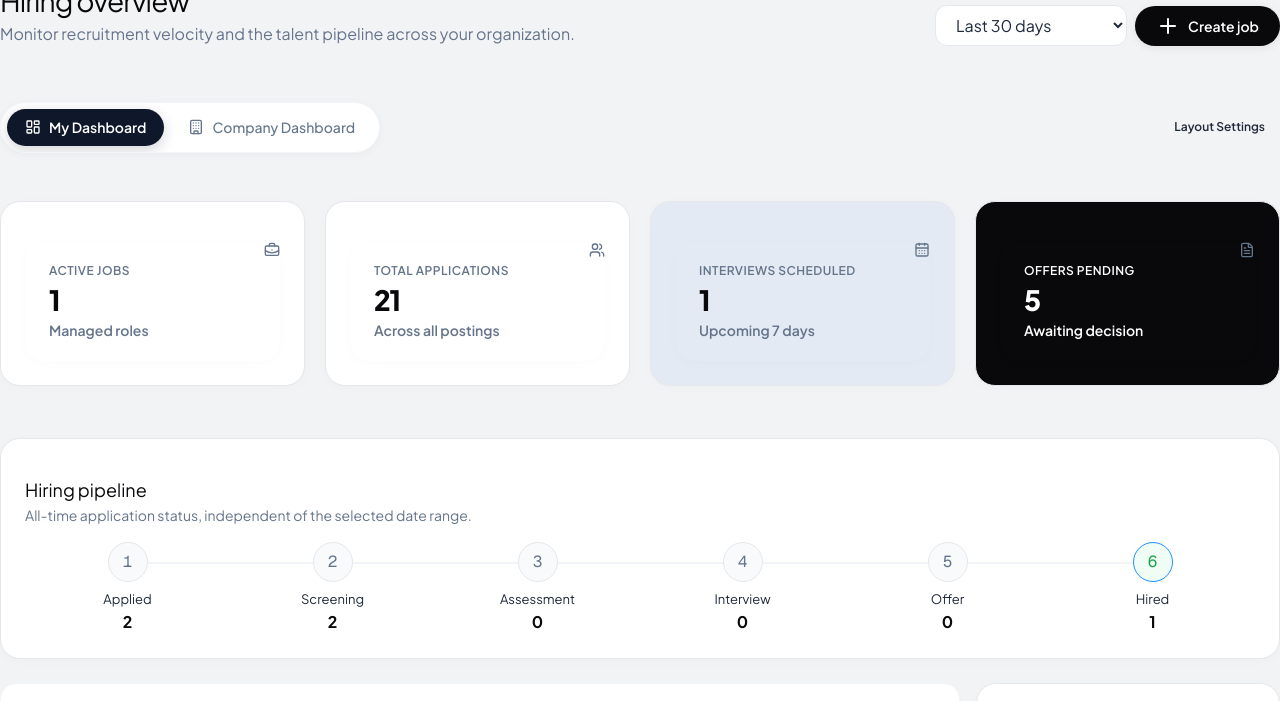
Test: rendered organization dashboard › canonicalizes and updates range, search, stage, and page in URL state
Select "Last 90 days" in the dropdown labelled "Dashboard date range" at [1031, 25], box [935, 4, 1127, 46]
(page scrolled)
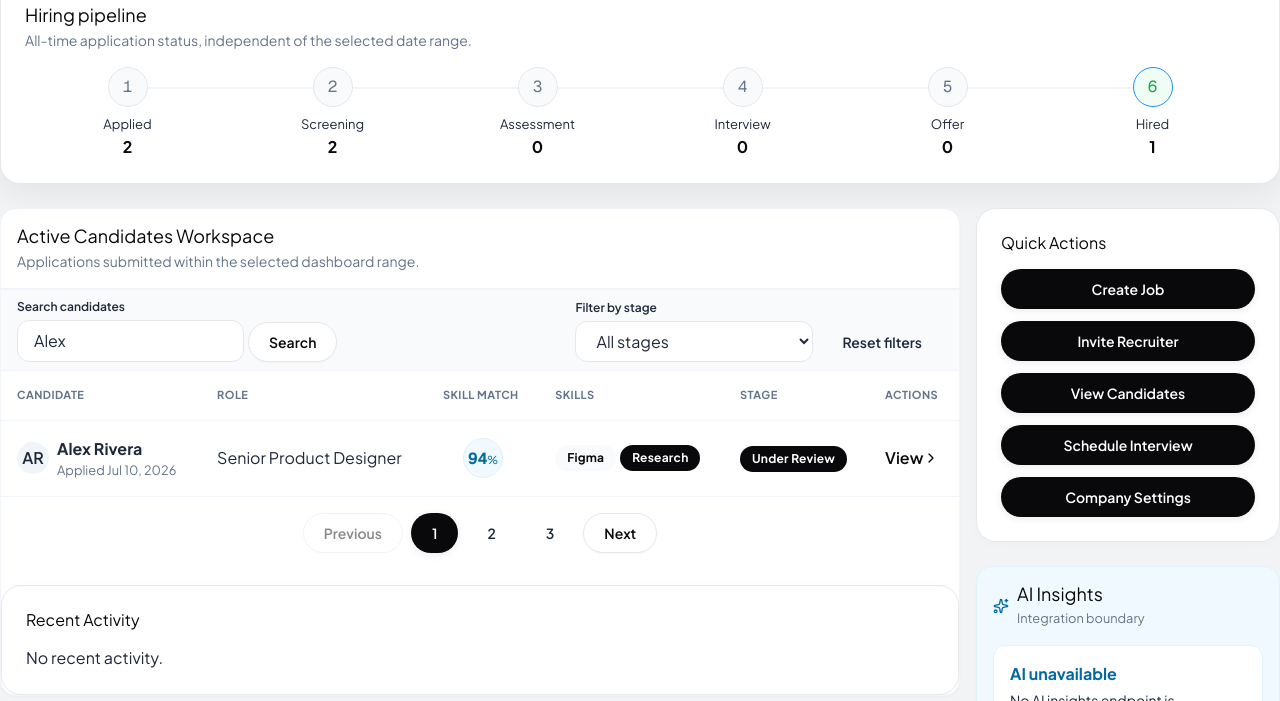
Replace the text in the search field labelled "Search candidates" with "Rivera" at [130, 341], box [17, 320, 244, 362]
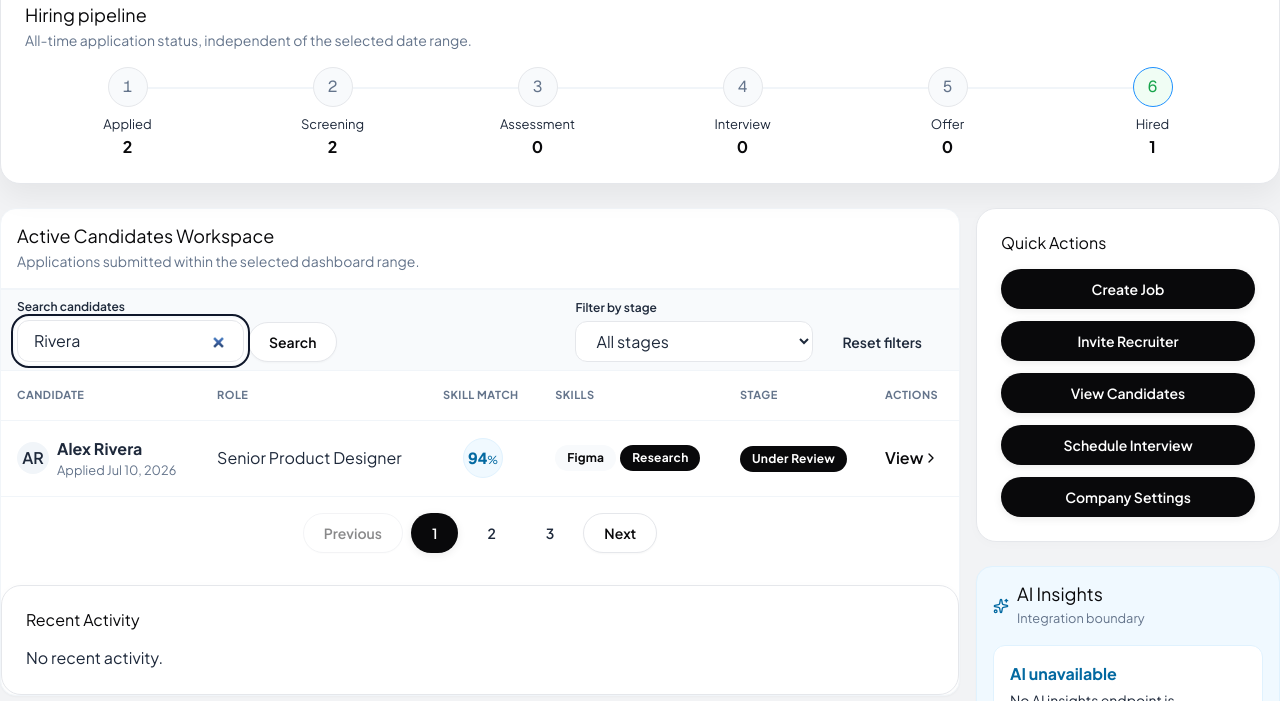
Click the button "Search" at [293, 342], box [248, 322, 337, 362]
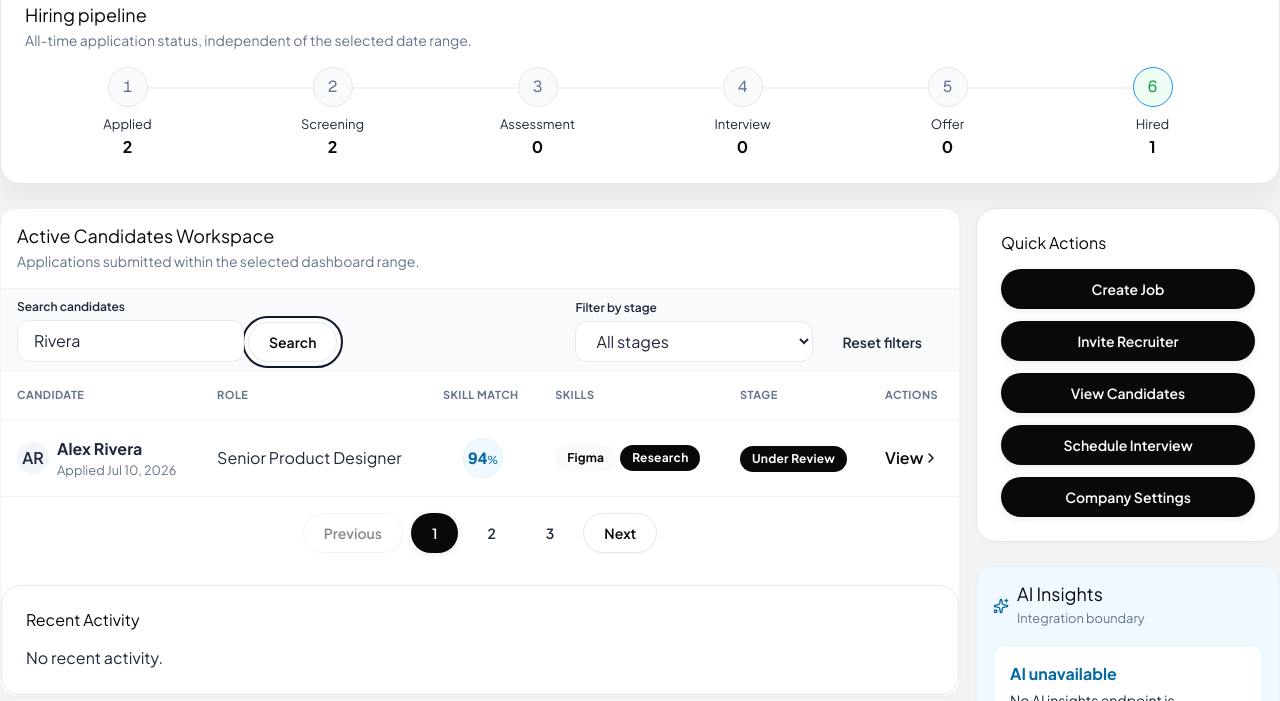
Select "Hired" in the dropdown labelled "Filter by stage" at [694, 341], box [576, 321, 814, 362]
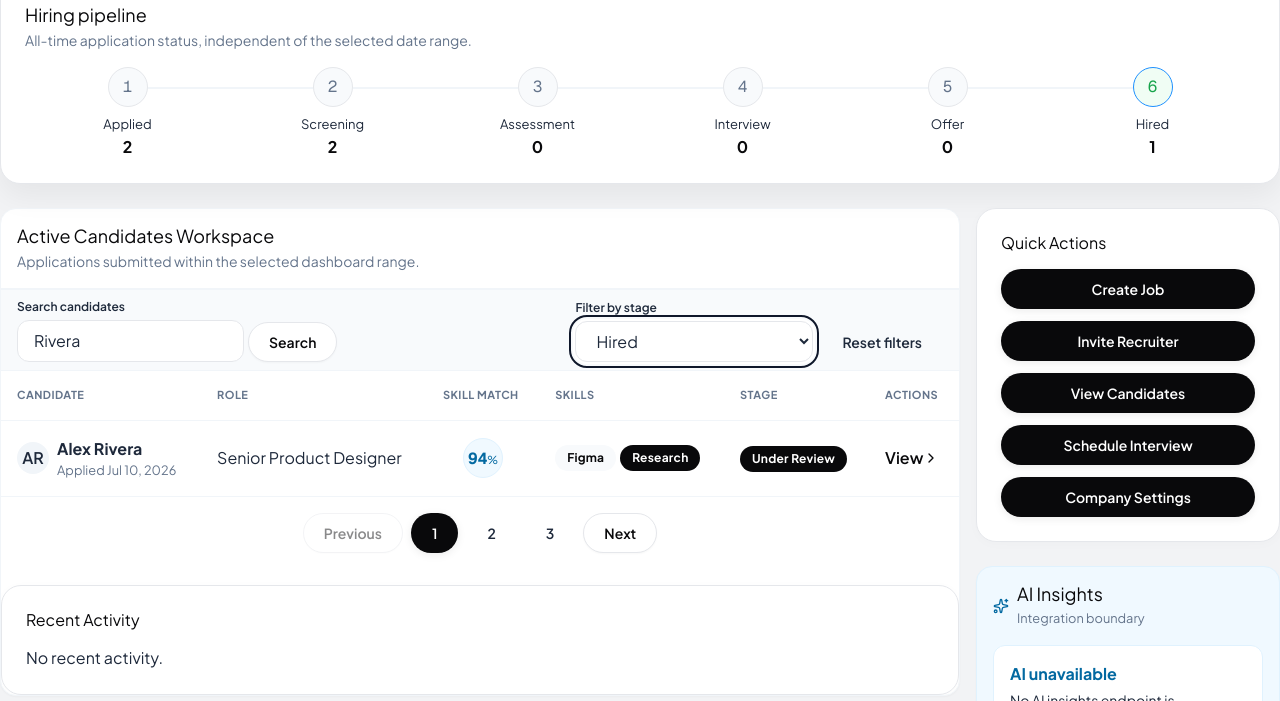
Click the button "Next" at [620, 533], box [583, 513, 657, 553]
(page scrolled)
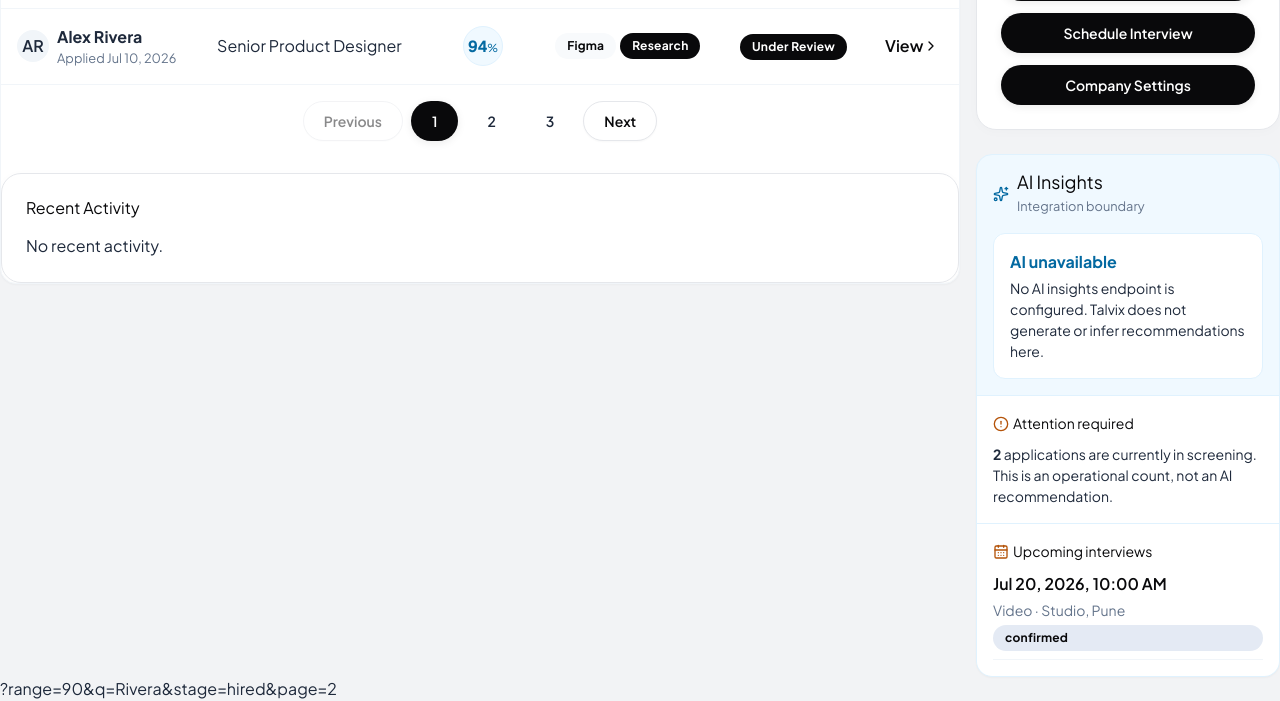
Expected: the text with test id "location" shows "page=2", [0, 678, 337, 699]
